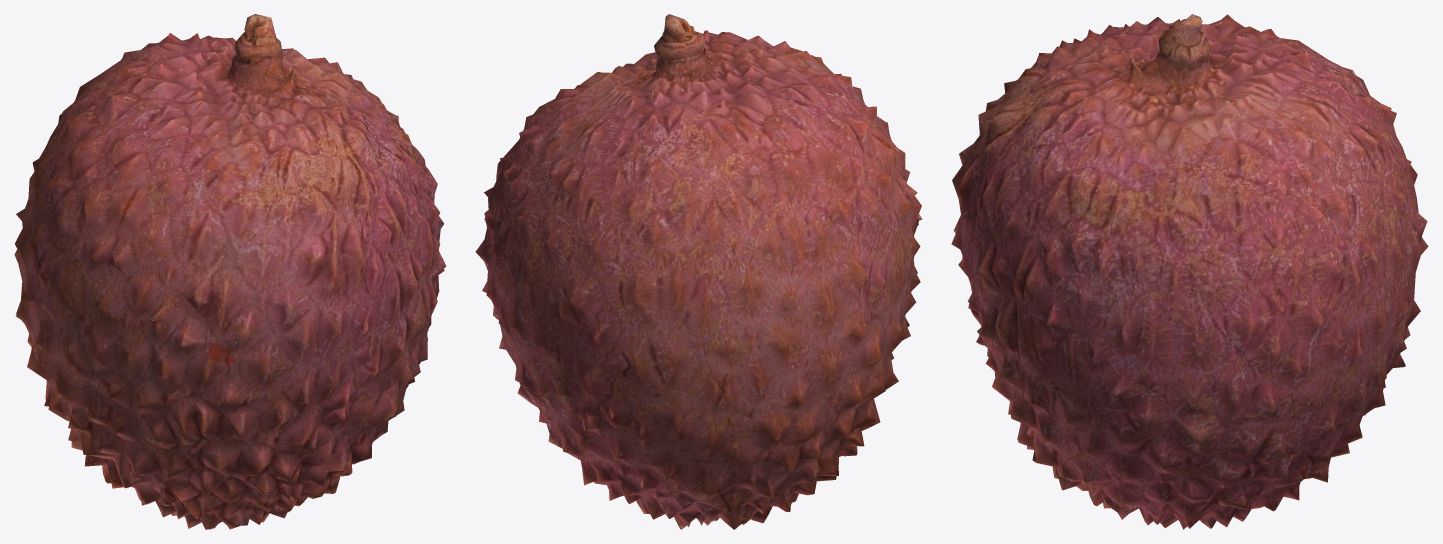
The model's file is food_lychee_01.glb.
3 views of the same model, side by side, from view 1: azimuth 30°, elevation 25°; view 2: azimuth 150°, elevation 25°; view 3: azimuth 270°, elevation 25° (orthographic). The views are drawn at different scales.
Visible parts, largest first — view 1: food_lychee_01; view 2: food_lychee_01; view 3: food_lychee_01.
Boxes of the visible parts, <box> form: food_lychee_01: <box>14,14,446,529</box>; food_lychee_01: <box>475,14,922,529</box>; food_lychee_01: <box>951,14,1428,529</box>.
Bounding box in the file's own units: 0.0408 × 0.0505 × 0.042.
Materials: 1 (1 with a texture image).
